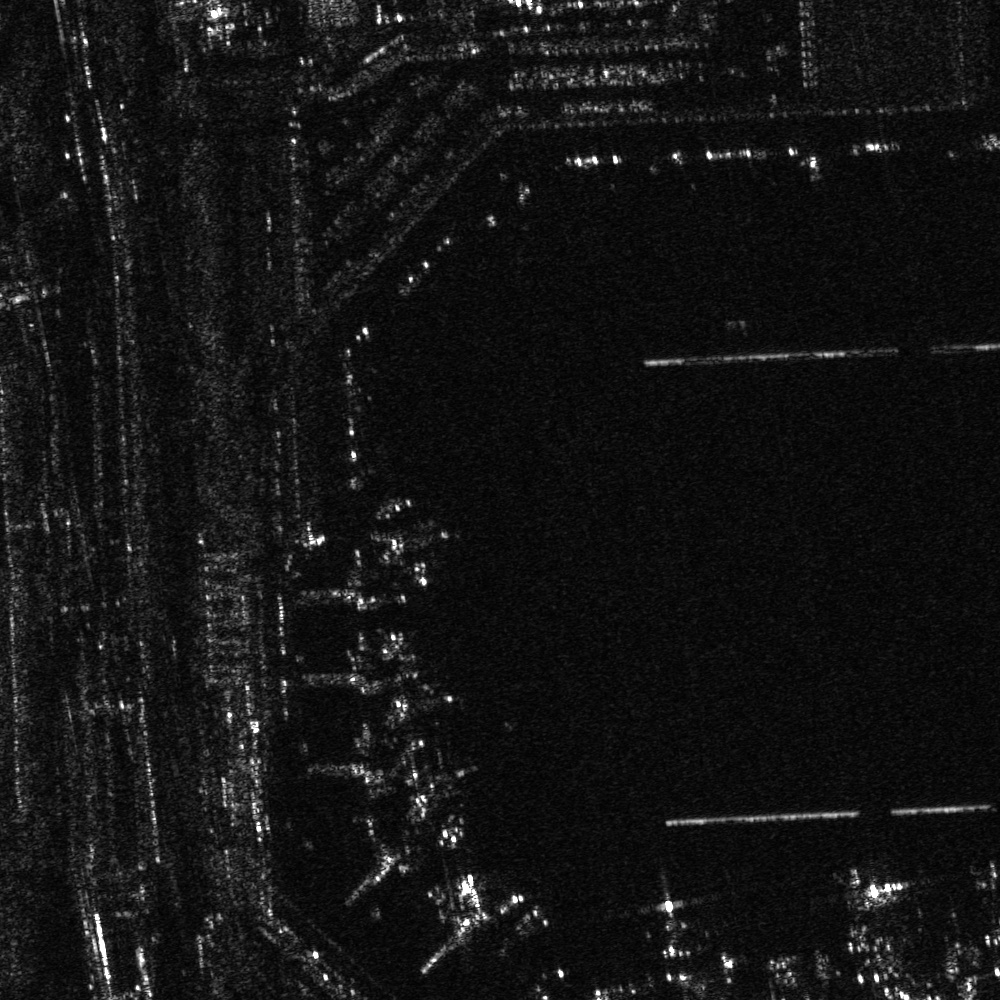A220: (341, 491, 461, 599), (357, 661, 464, 741), (636, 886, 700, 938)
A320/321: (838, 864, 915, 923)
